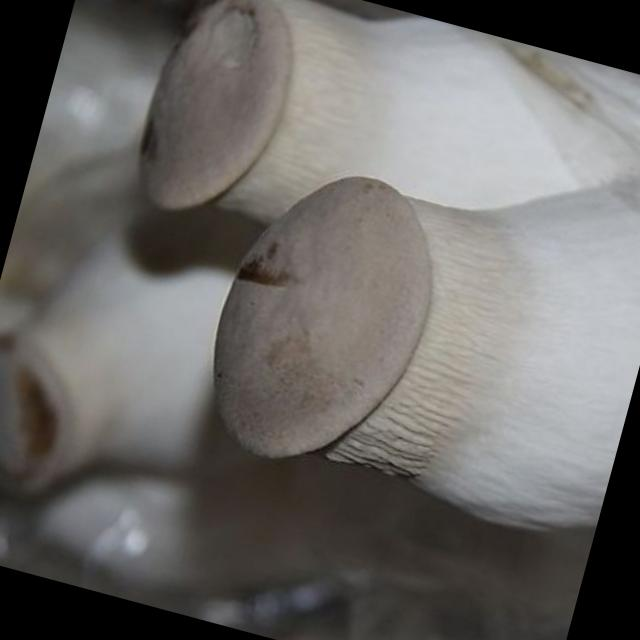Pleurotus eryngii: (184, 72, 640, 552), (129, 0, 640, 336)
